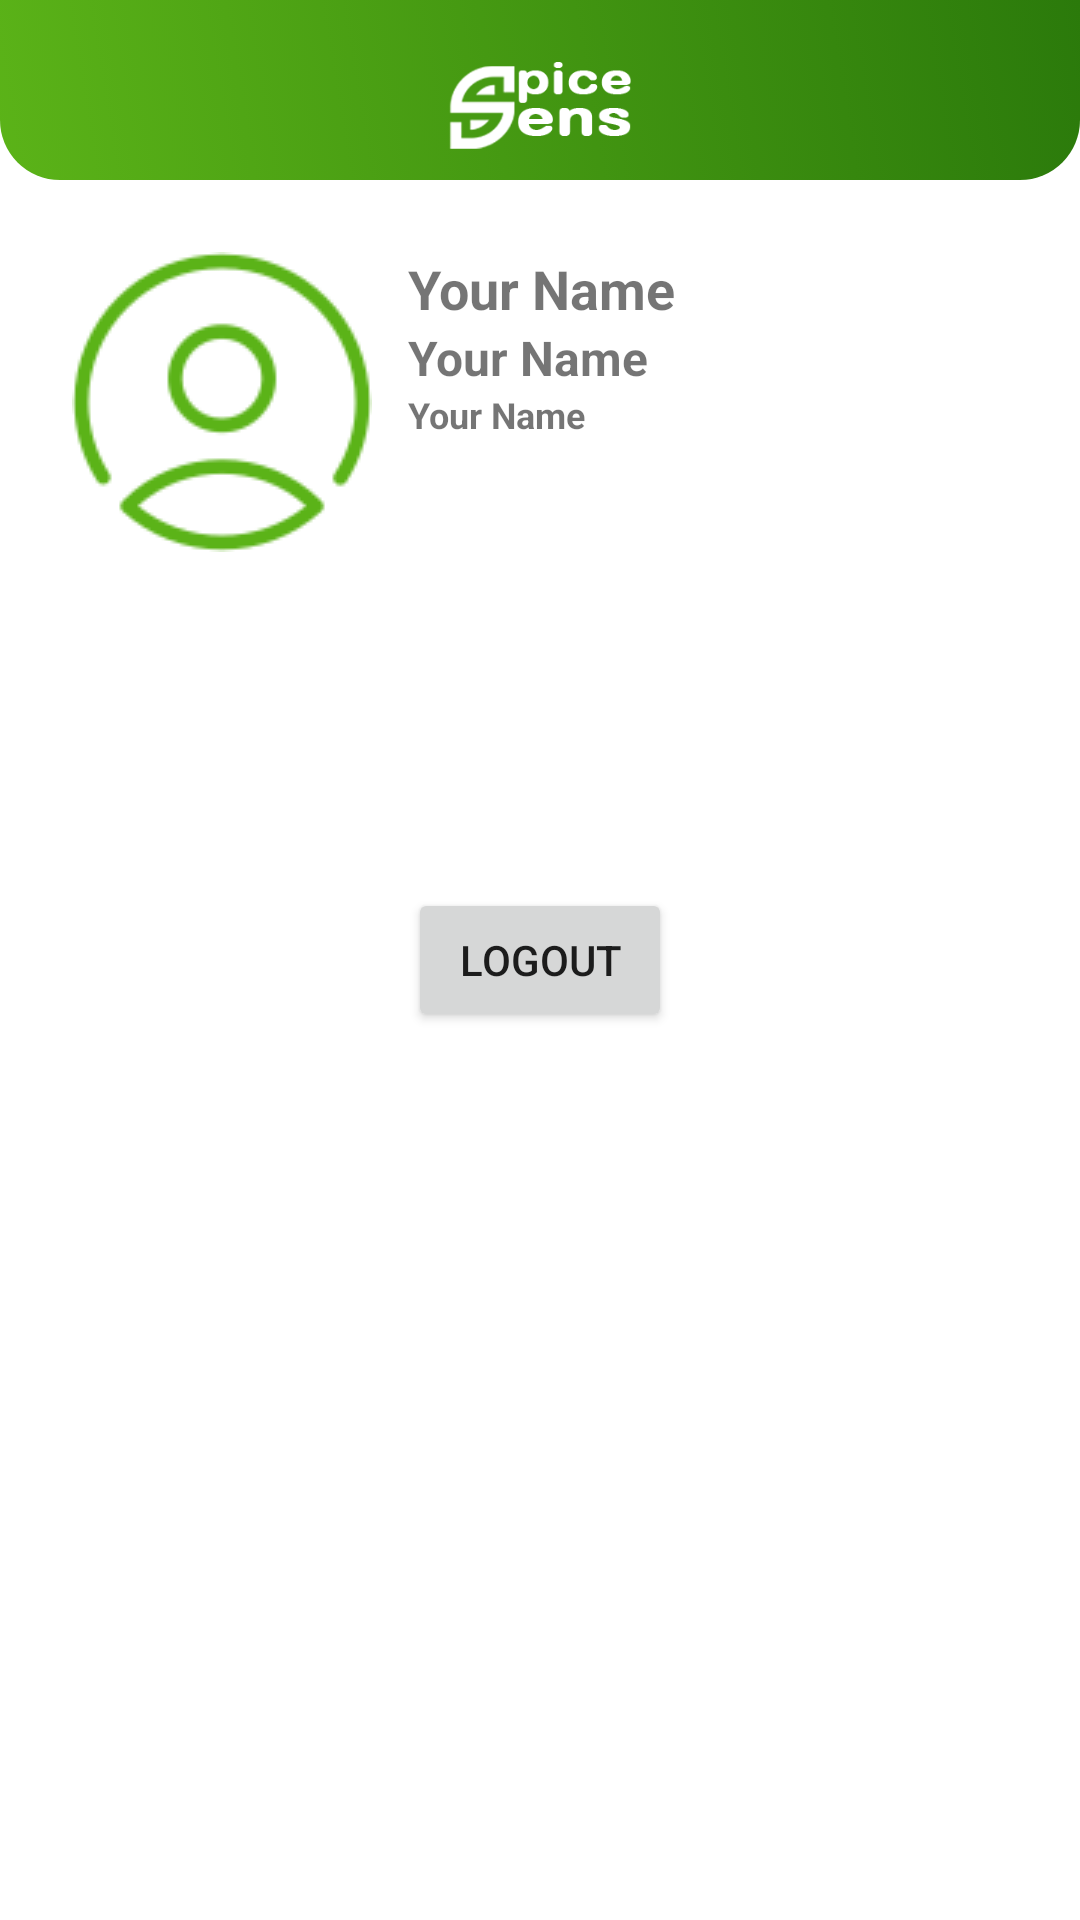

Locate icon controls on the screen. Image size 1080px x 1920px, boxes as [x1,y1,x2,y2].
profile: [72,252,372,552]
